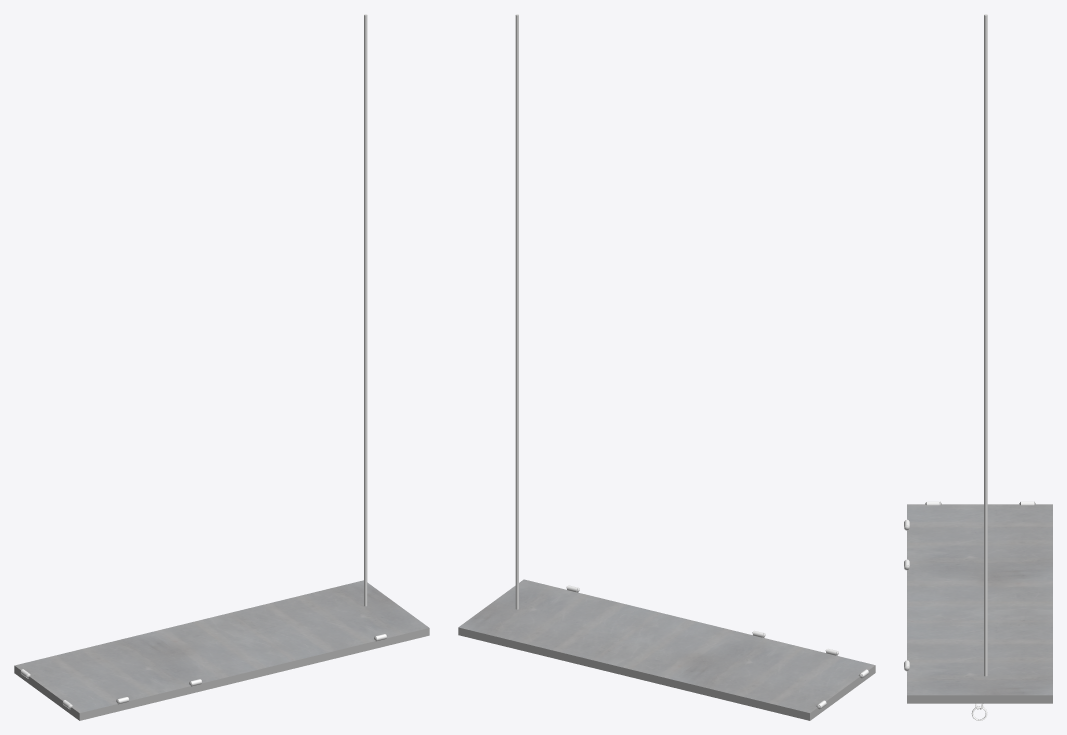
The model's file is SM_M_hangingdoor_2.fbx.
3 renders of one model, left to right at view 1: azimuth 30°, elevation 25°; view 2: azimuth 150°, elevation 25°; view 3: azimuth 270°, elevation 25°, orthographic. The views are drawn at different scales.
Visible parts, largest first — view 1: SM_M_hangingdoor_2_LOD0; view 2: SM_M_hangingdoor_2_LOD0; view 3: SM_M_hangingdoor_2_LOD0.
Part boxes in pixels (x1=…): SM_M_hangingdoor_2_LOD0: x1=14, y1=14, x2=429, y2=720; SM_M_hangingdoor_2_LOD0: x1=458, y1=14, x2=875, y2=720; SM_M_hangingdoor_2_LOD0: x1=904, y1=14, x2=1052, y2=720.
Bounding box in the file's own units: 249 × 81.71 × 420.
